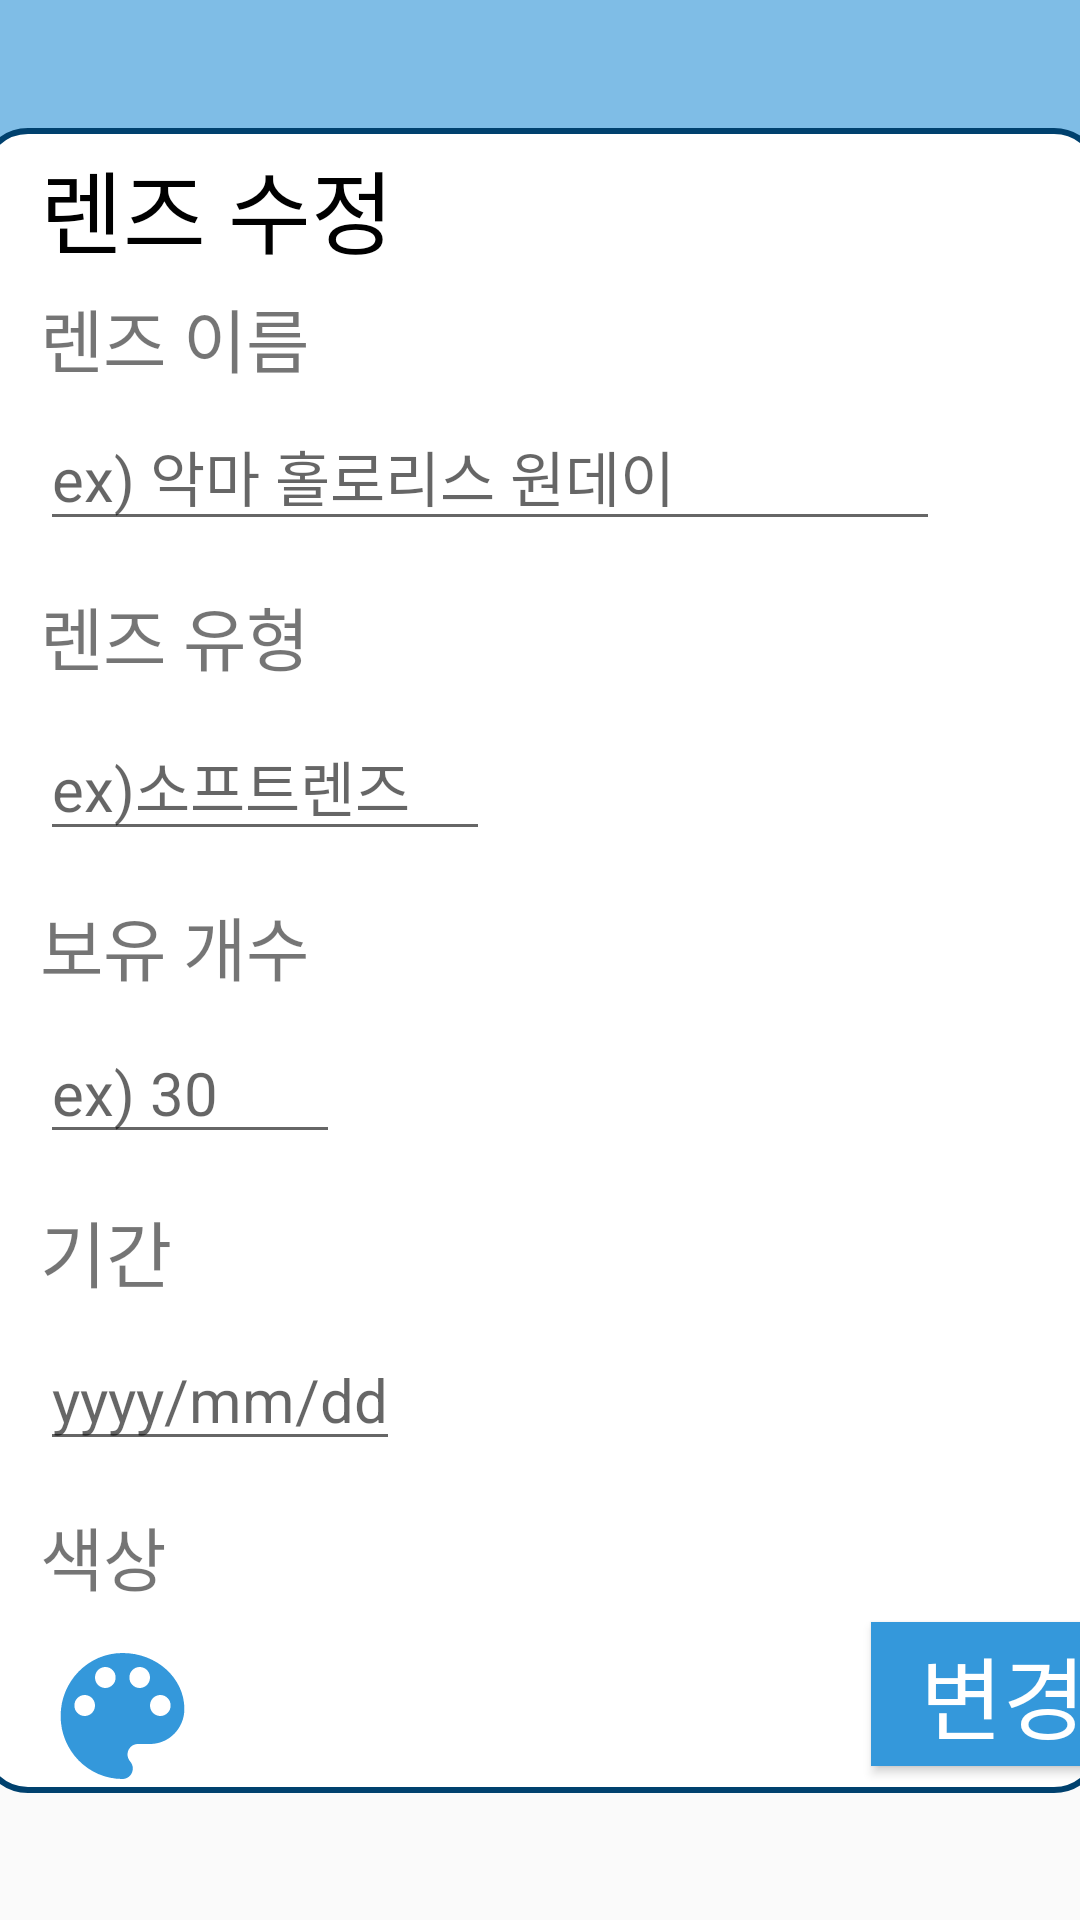

Where icons sit on this 1080 x 1920 app screen, as (x1, y1, x2, y2):
pallete: (60, 1653, 185, 1779)
